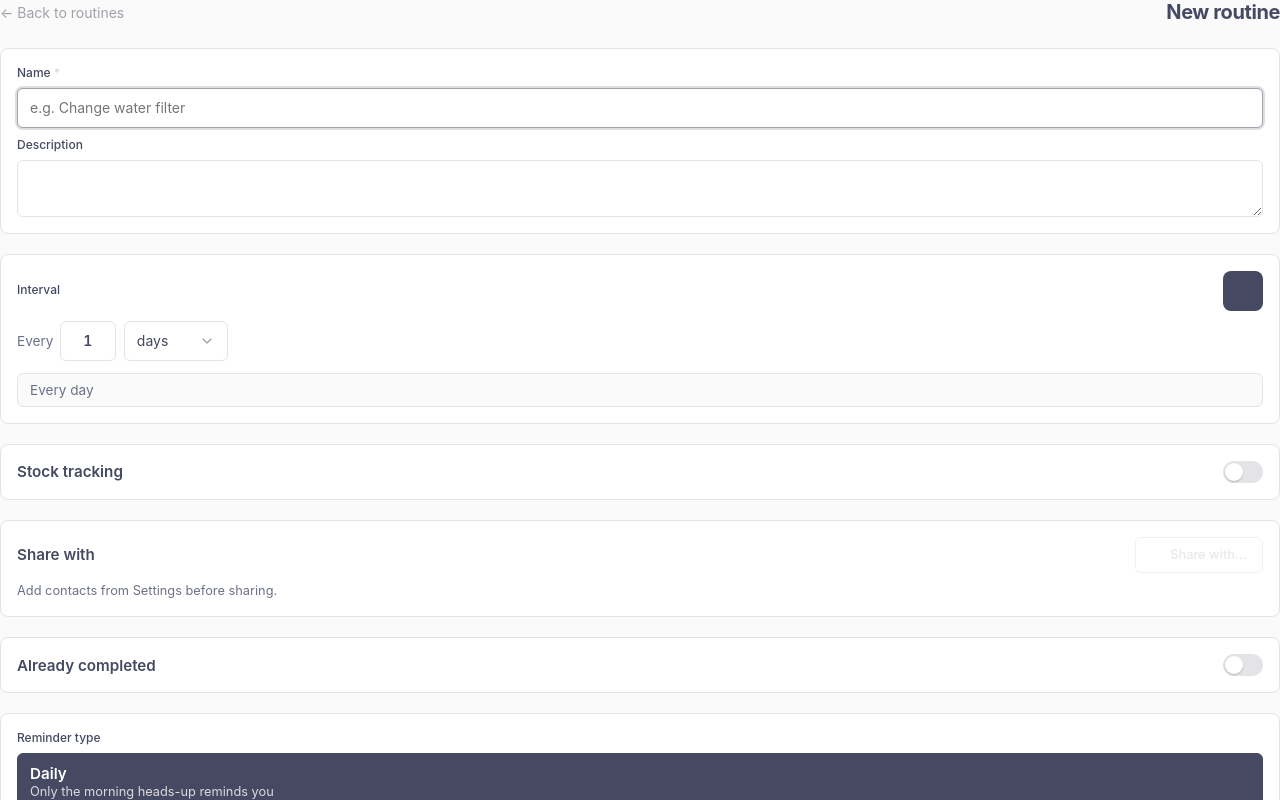
Test: RoutineFormPage › checking "already did this" reveals datetime input with default value
Step 1. Click the switch named "Already completed" → (1243, 665), box [1223,654,1263,676]
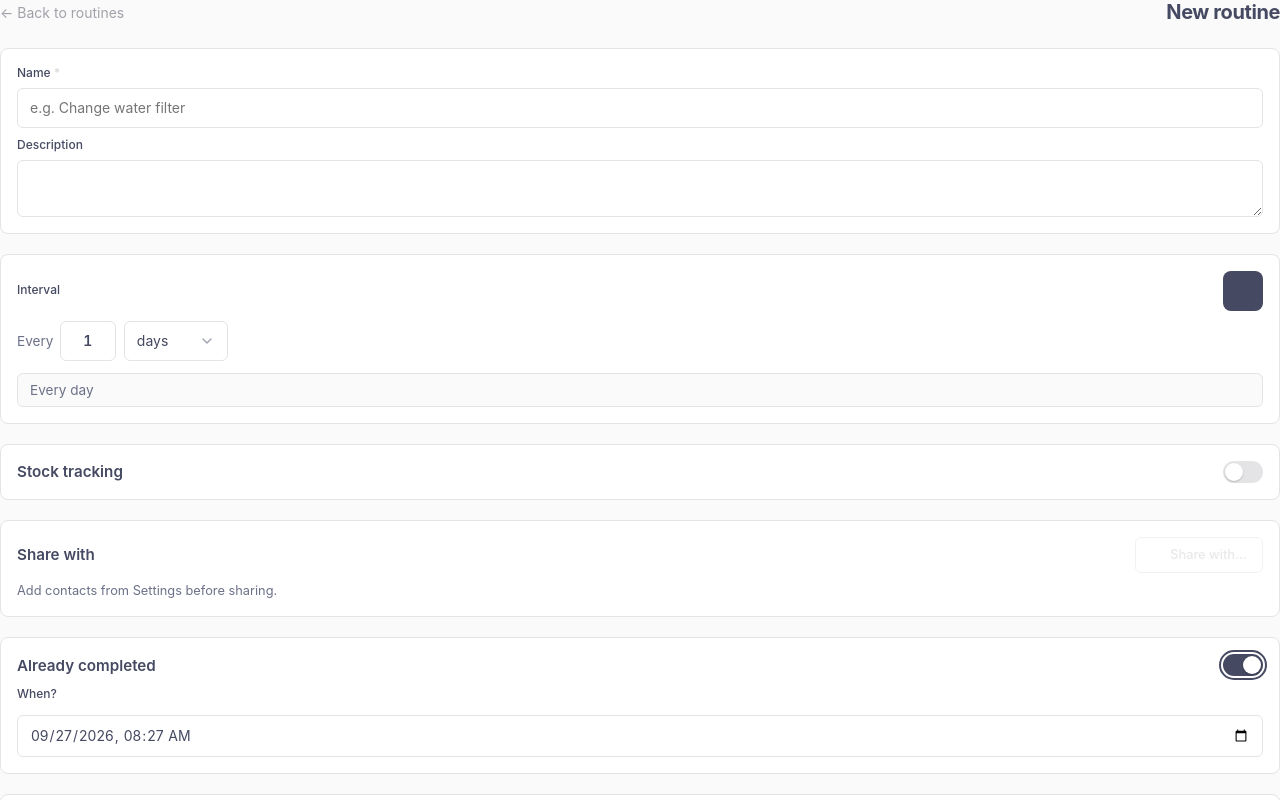
Check: the 3rd field is shown, box [17,715,1263,757]
